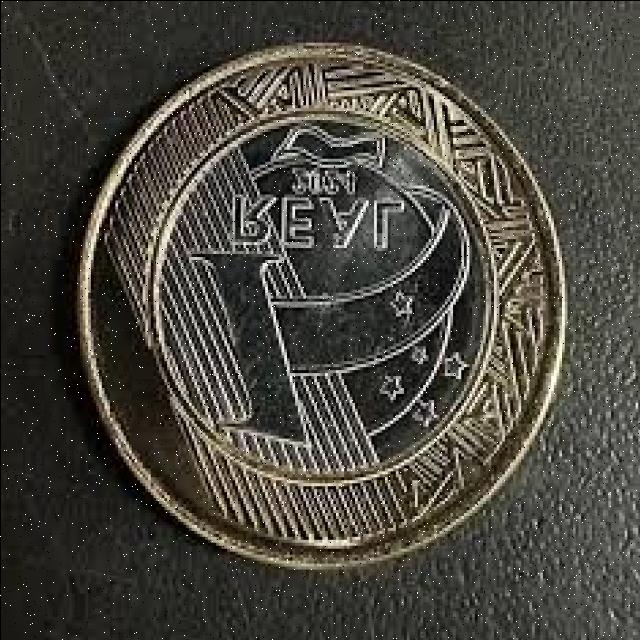1 real: (93, 62, 566, 571)
